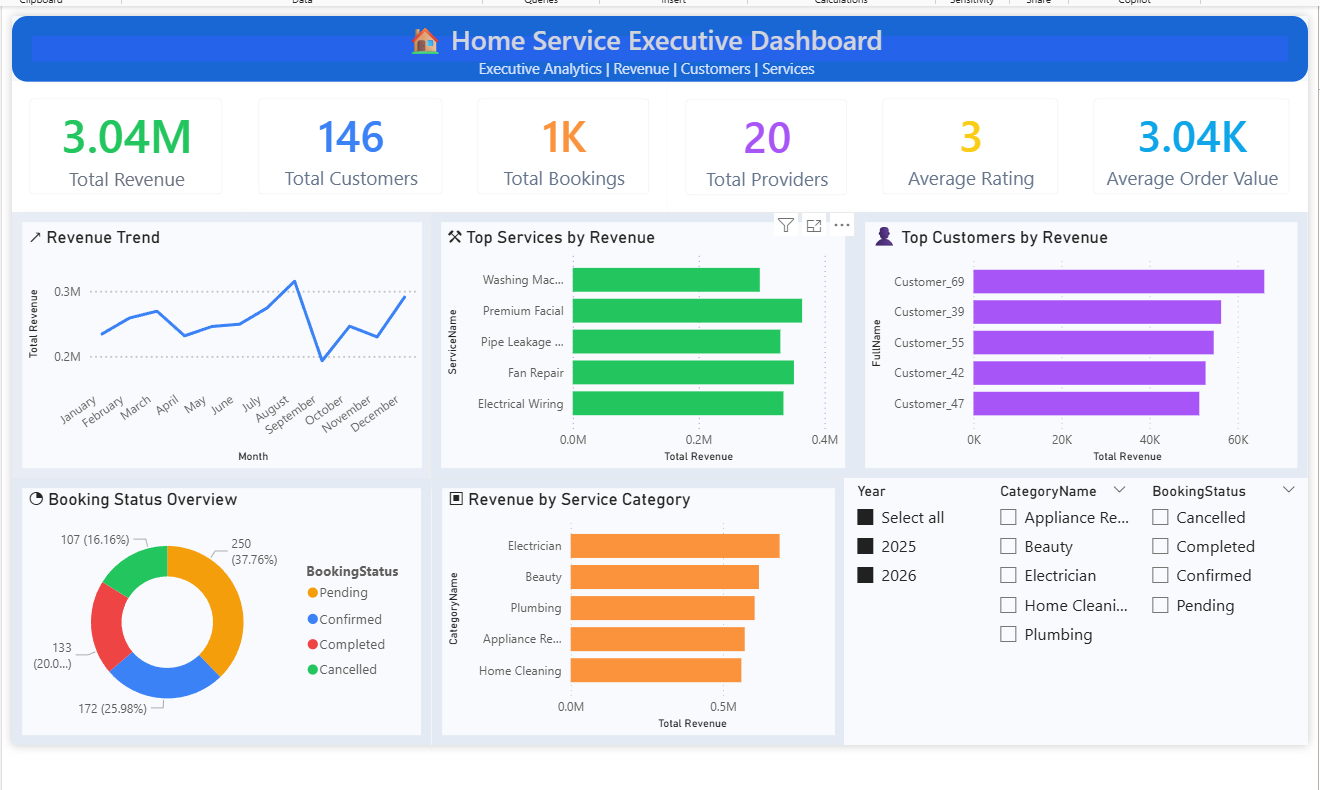

This screenshot's page, from the dashboard's own definition file:
{"tool":"powerbi","page":{"name":" Executive Dashboard","canvas":[1280,720],"ordinal":0},"visuals":[{"type":"cardVisual","fields":{"Data":["Measures (3).Total Revenue"]},"box":[0,64,225.8,129.9],"z":0},{"type":"cardVisual","fields":{"Data":["Measures (3).Total Customers"]},"box":[225.8,64,216.8,129.9],"z":1000},{"type":"cardVisual","fields":{"Data":["Measures (3).Total Bookings"]},"box":[442.7,64,204.8,129.9],"z":2000},{"type":"cardVisual","fields":{"Data":["Measures (3).Total Providers"]},"box":[647.5,64.9,194.8,129.9],"z":3000},{"type":"cardVisual","fields":{"Data":["Measures (3).Average Rating"]},"box":[842.3,64,208.8,129.9],"z":4000},{"type":"cardVisual","fields":{"Data":["Measures (3).Average Order Value"]},"box":[1051.2,64,228.8,129.9],"z":5000},{"type":"lineChart","title":"↗ Revenue Trend","fields":{"Category":["PaymentMaster.PaymentDate.Variation.Date Hierarchy.Month"],"Y":["Measures (3).Total Revenue"]},"box":[0,193.8,414.7,262.8],"z":6000},{"type":"donutChart","title":"◔ Booking Status Overview","fields":{"Category":["BookingMaster.BookingStatus"],"Y":["Measures (3).Total Bookings"]},"box":[0,456.6,413.7,263.8],"z":7000},{"type":"clusteredBarChart","title":"⚒ Top Services by Revenue","fields":{"Category":["ServiceMaster.ServiceName"],"Y":["Measures (3).Total Revenue"]},"box":[413.8,193.6,418.8,262.7],"z":8000},{"type":"clusteredBarChart","title":"▣ Revenue by Service Category","fields":{"Category":["CategoryMaster.CategoryName"],"Y":["Measures (3).Total Revenue"]},"box":[414.7,456.6,407.7,263.8],"z":9000},{"type":"clusteredBarChart","title":"👤 Top Customers by Revenue","fields":{"Category":["CustomerMaster.FullName"],"Y":["Measures (3).Total Revenue"]},"box":[832.6,193.6,447.4,262.7],"z":10000},{"type":"slicer","fields":{"Values":["LocalDateTable_034095bb-9840-4040-a7b4-5ba32061fd5d.Year"]},"box":[821.4,456.6,141.9,263.8],"z":11000},{"type":"slicer","fields":{"Values":["BookingMaster.BookingStatus"]},"box":[1113.1,456.6,166.9,263.8],"z":12000},{"type":"slicer","fields":{"Values":["CategoryMaster.CategoryName"]},"box":[963.2,456.6,149.9,263.8],"z":13000},{"type":"shape","box":[0,0,1280,64.9],"z":14000},{"type":"textbox","box":[182.9,0,884.3,93.9],"z":15000}]}

Visuals, with their boxes on the page's 1280x720 design canvas (x1, y1, x2, y2). These are canvas units, not pixel positions in the 1320x790 screenshot, which may show the page scaled, cropped or inside an application window:
cardVisual - Measures (3).Total Revenue: [left=0, top=64, right=226, bottom=194]
cardVisual - Measures (3).Total Customers: [left=226, top=64, right=443, bottom=194]
cardVisual - Measures (3).Total Bookings: [left=443, top=64, right=648, bottom=194]
cardVisual - Measures (3).Total Providers: [left=648, top=65, right=842, bottom=195]
cardVisual - Measures (3).Average Rating: [left=842, top=64, right=1051, bottom=194]
cardVisual - Measures (3).Average Order Value: [left=1051, top=64, right=1280, bottom=194]
"↗ Revenue Trend" lineChart: [left=0, top=194, right=415, bottom=457]
"◔ Booking Status Overview" donutChart: [left=0, top=457, right=414, bottom=720]
"⚒ Top Services by Revenue" clusteredBarChart: [left=414, top=194, right=833, bottom=456]
"▣ Revenue by Service Category" clusteredBarChart: [left=415, top=457, right=822, bottom=720]
"👤 Top Customers by Revenue" clusteredBarChart: [left=833, top=194, right=1280, bottom=456]
slicer - LocalDateTable_034095bb-9840-4040-a7b4-5ba32061fd5d.Year: [left=821, top=457, right=963, bottom=720]
slicer - BookingMaster.BookingStatus: [left=1113, top=457, right=1280, bottom=720]
slicer - CategoryMaster.CategoryName: [left=963, top=457, right=1113, bottom=720]
shape: [left=0, top=0, right=1280, bottom=65]
textbox: [left=183, top=0, right=1067, bottom=94]
